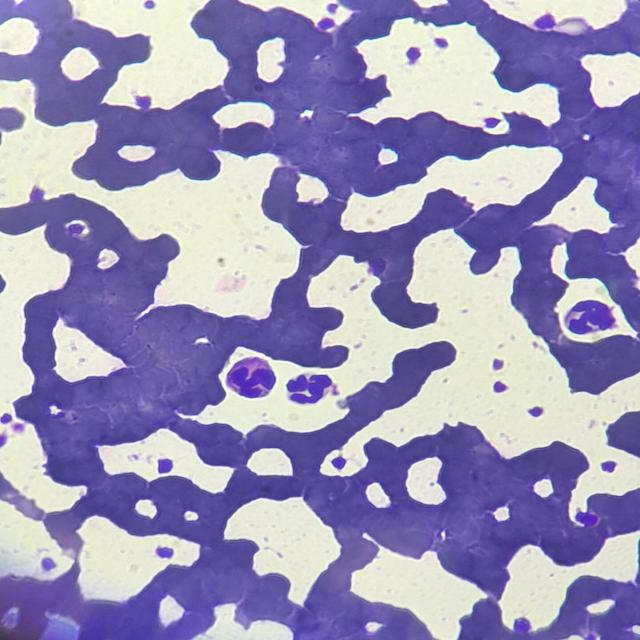Neutrofilo: (224, 356, 279, 399), (567, 300, 620, 334), (288, 371, 332, 402)
